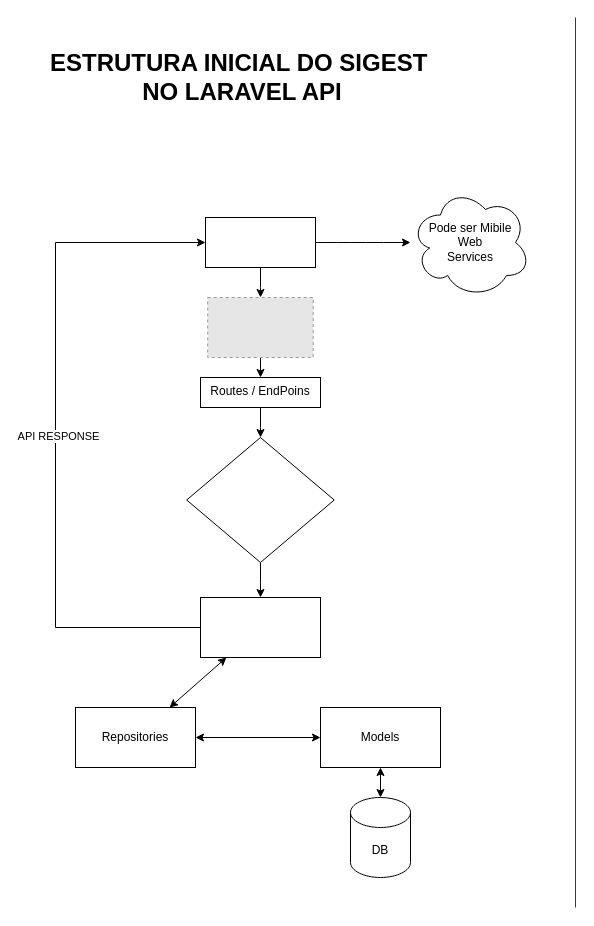
Some shapes in this 594 by 926 pixel diagram are drawn without their labels. Grey dashed boxes stand in for pictures. Here are the shapes that lost their labels. From the top down, the box of each, then its label:
(204, 216, 316, 268): SIGEST User
(186, 436, 334, 562): Request Validation
(200, 596, 320, 658): Controller
